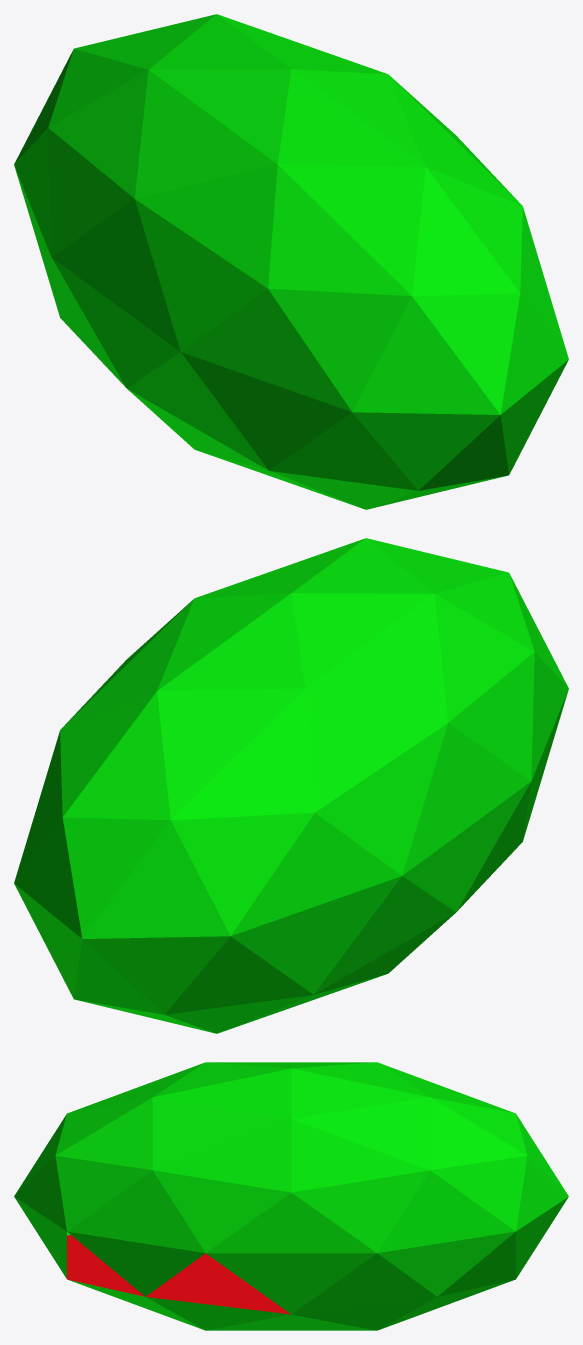
File: nuezE.fbx
3 views of the same model, one above another, from view 1: azimuth 30°, elevation 25°; view 2: azimuth 150°, elevation 25°; view 3: azimuth 270°, elevation 25° (orthographic). The views are drawn at different scales.
Visible parts, largest first — view 1: Icosphere; view 2: Icosphere; view 3: Icosphere.
Boxes of the visible parts, box(x1,y1,x2,y2) form: Icosphere: box(14, 14, 568, 509); Icosphere: box(14, 538, 568, 1033); Icosphere: box(14, 1062, 568, 1330).
Size of the model in its own units: 2 by 3.93 by 1.9.
